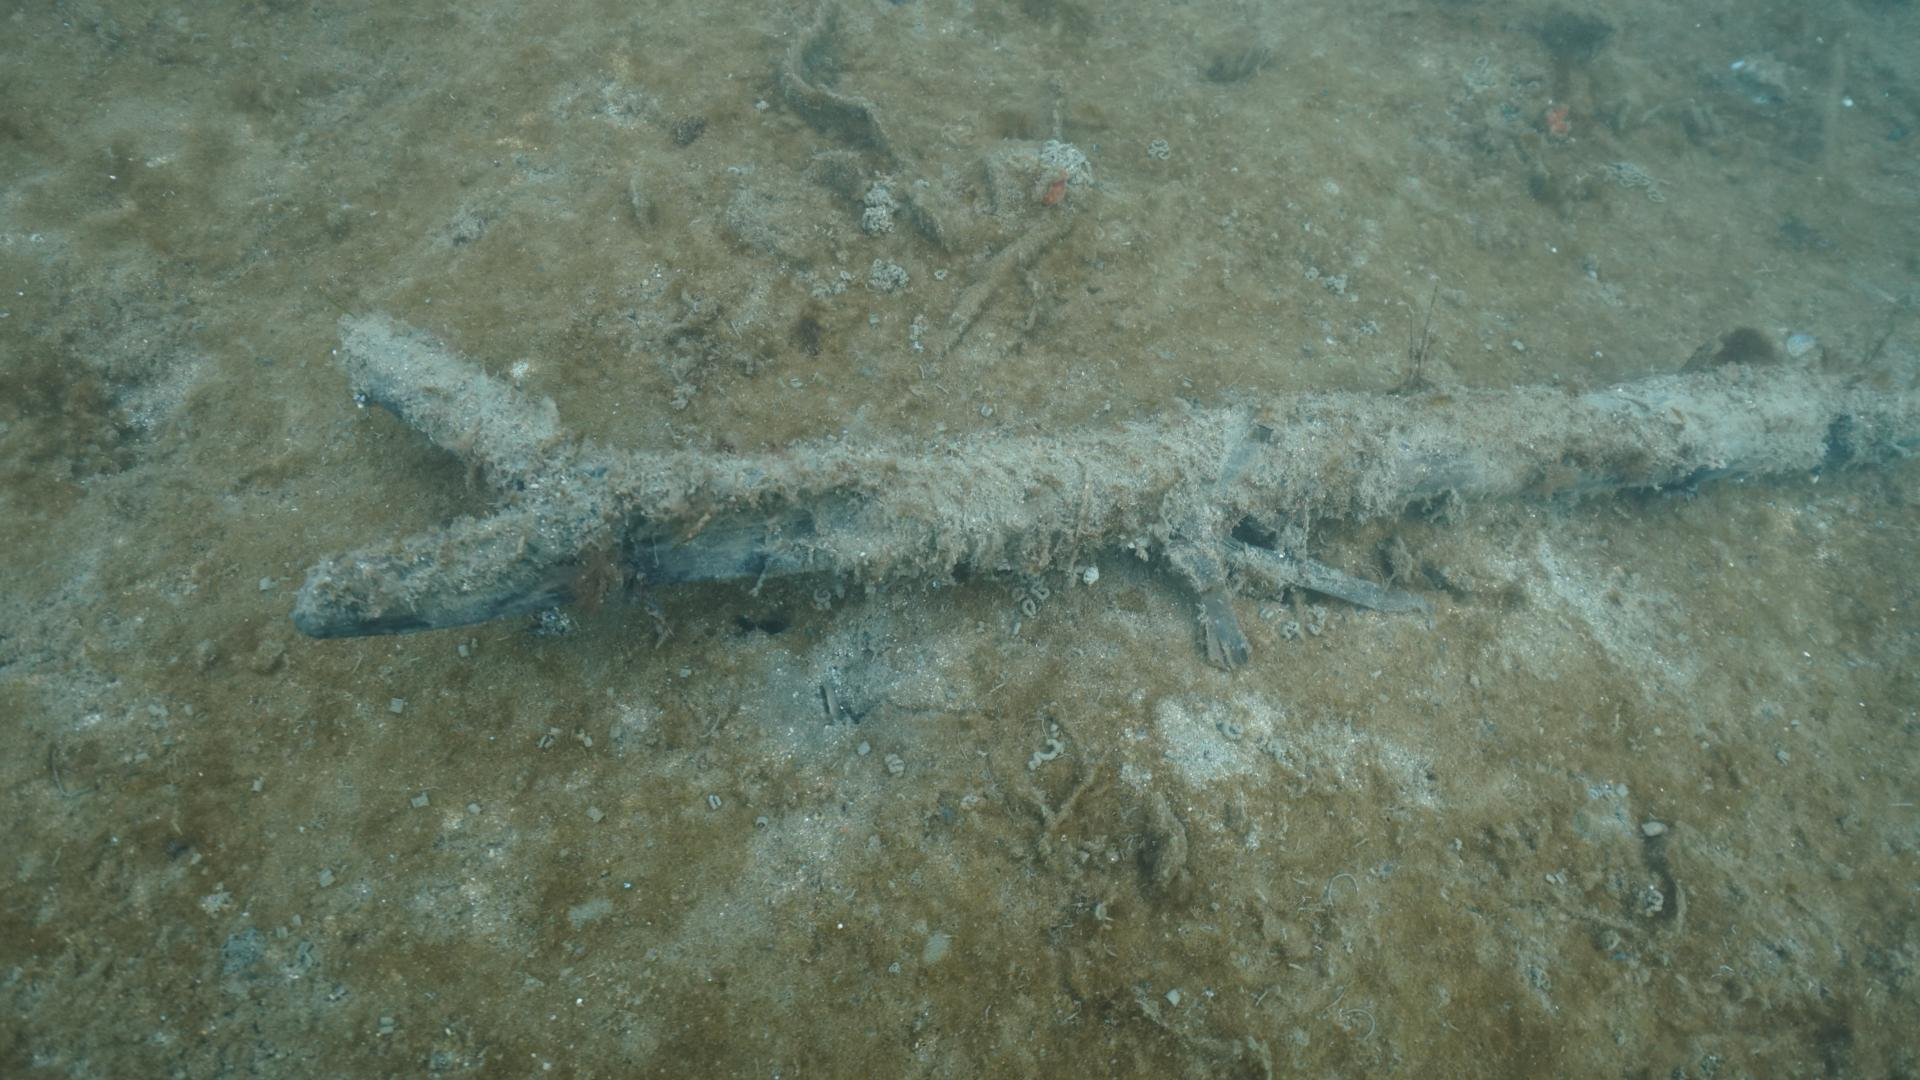wood: (287, 306, 1920, 636)
